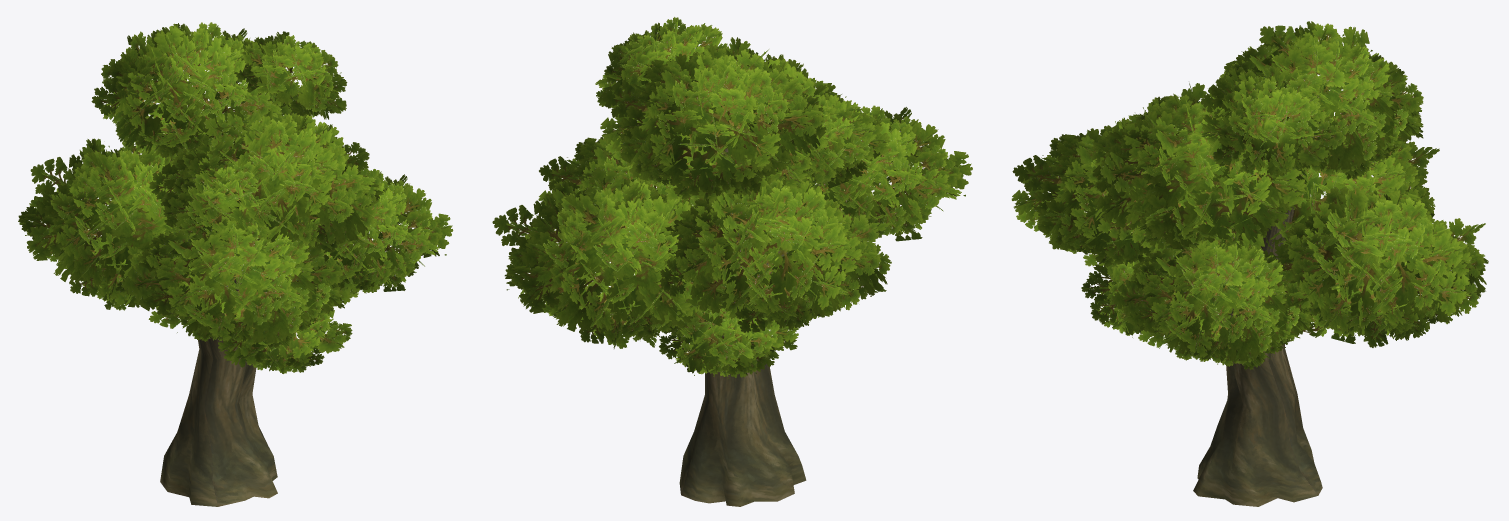
Rendered from tree.fbx.
3 views of the same model, side by side, from view 1: azimuth 30°, elevation 25°; view 2: azimuth 150°, elevation 25°; view 3: azimuth 270°, elevation 25° (orthographic). The views are drawn at different scales.
Parts seen in each view (by area): view 1: Leaves, Trunk; view 2: Leaves, Trunk; view 3: Leaves, Trunk.
Part boxes in pixels (x1=…): Leaves: x1=18, y1=22, x2=453, y2=373; Trunk: x1=160, y1=268, x2=296, y2=506; Leaves: x1=492, y1=17, x2=972, y2=378; Trunk: x1=679, y1=148, x2=806, y2=506; Leaves: x1=1011, y1=21, x2=1488, y2=370; Trunk: x1=1193, y1=178, x2=1322, y2=506.
Size of the model in its own units: 13.8 by 16.13 by 15.62.
